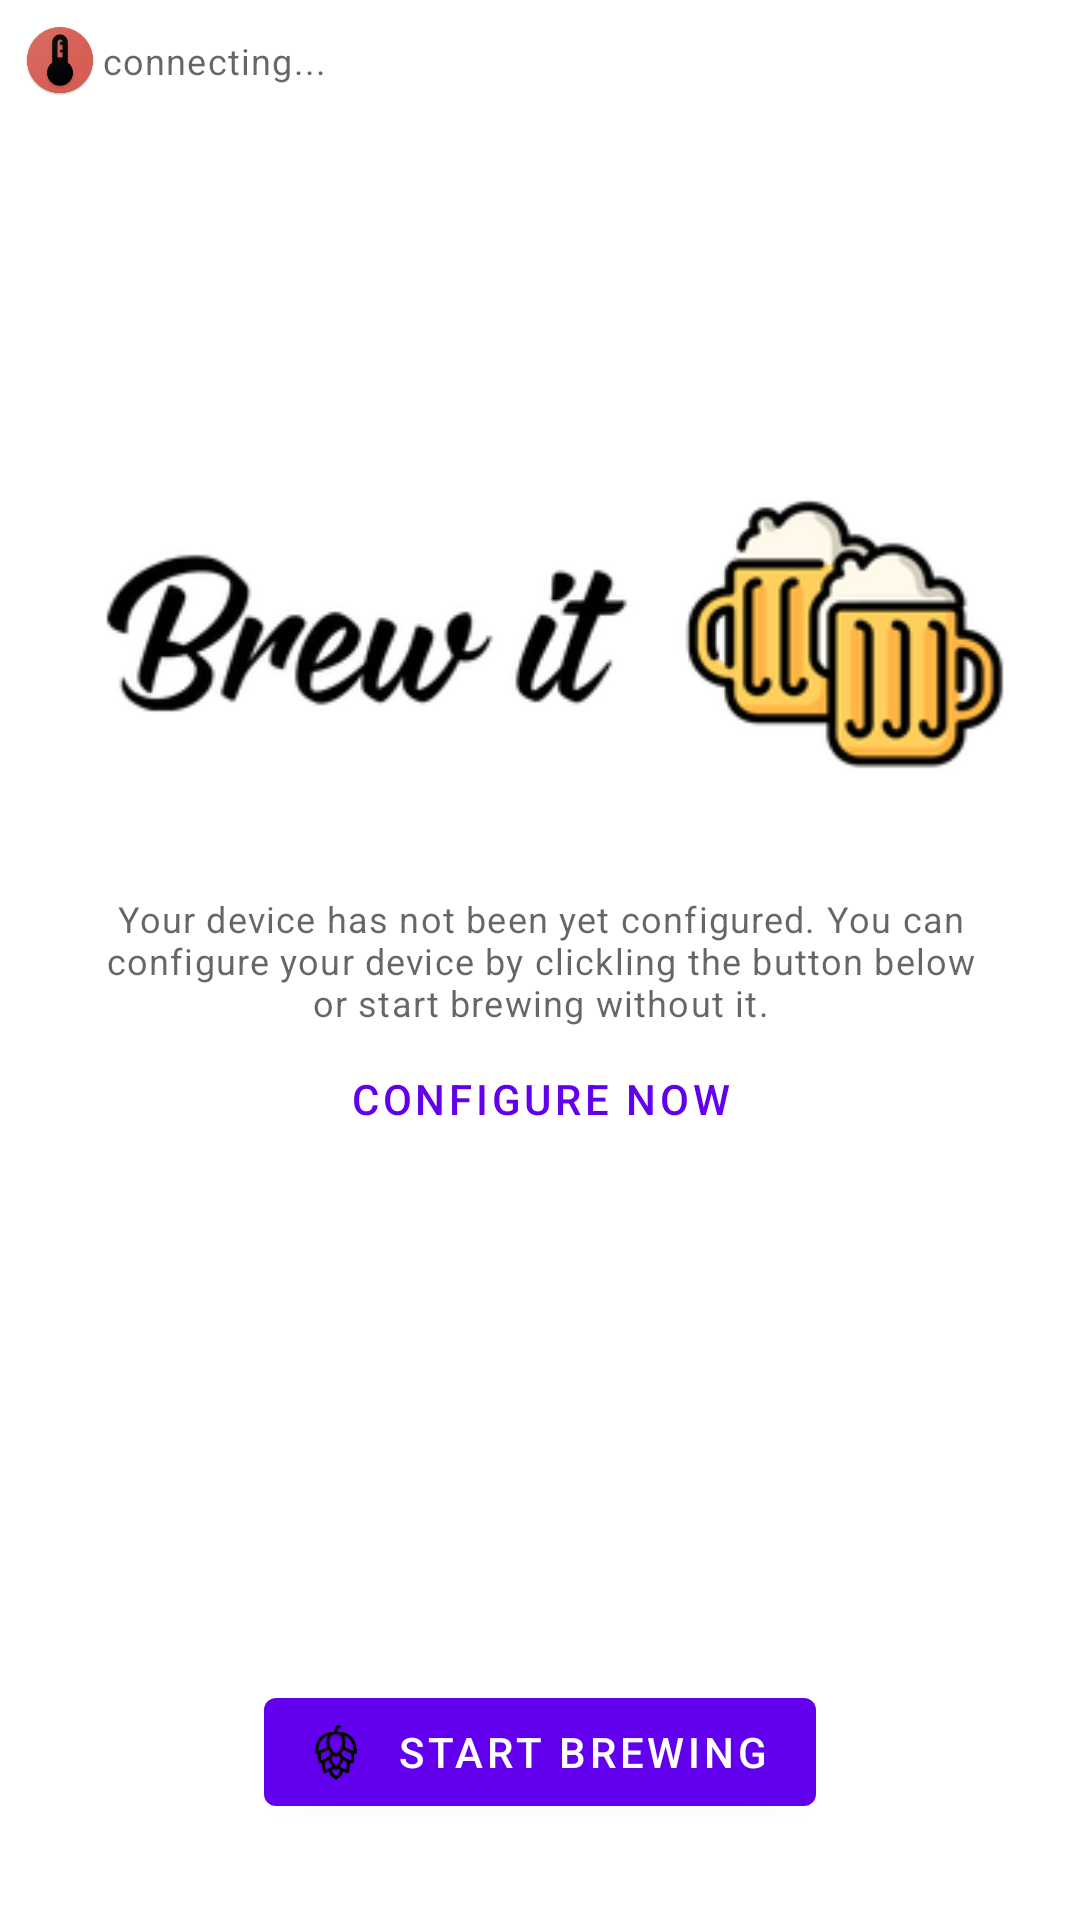

Screen size 1080×1920. Icon name, then its box in pixels as (x1, y1, x2, y2):
thermometer: (26, 27, 94, 95)
